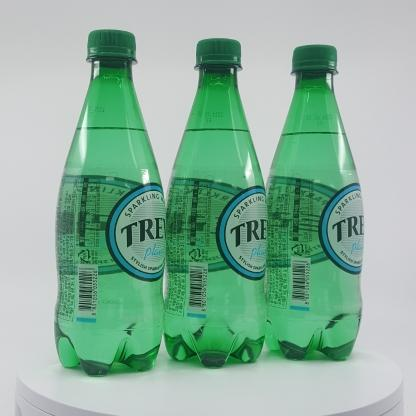---------PET-500ML: (54, 29, 167, 376), (161, 38, 268, 367), (263, 44, 364, 362)
